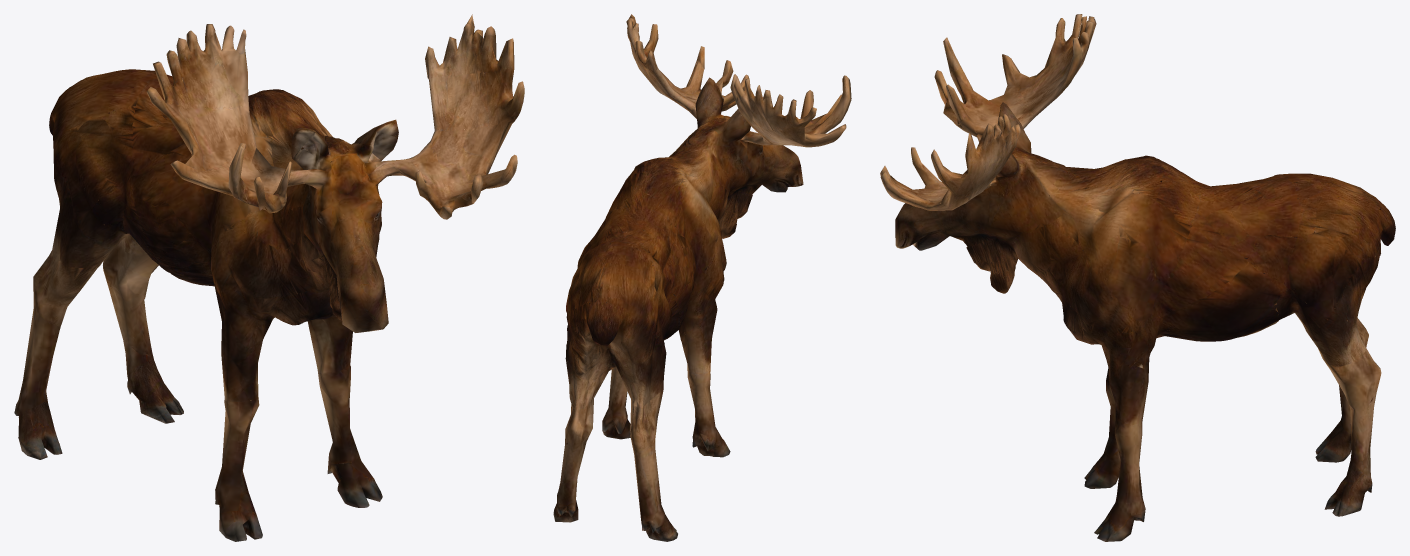
Rendered from moose.glb.
The picture shows the model from 3 angles, left to right: view 1: azimuth 30°, elevation 25°; view 2: azimuth 150°, elevation 25°; view 3: azimuth 270°, elevation 25°; orthographic projection. The views are drawn at different scales.
Visible parts, largest first — view 1: moose; view 2: moose; view 3: moose.
Part boxes in pixels (box(x1,y1,x2,y2)): moose: box(14, 14, 524, 541); moose: box(553, 14, 851, 541); moose: box(880, 14, 1395, 541).
Size of the model in its own units: 1.57 by 2.44 by 2.56.
1 material, 1 textured.
